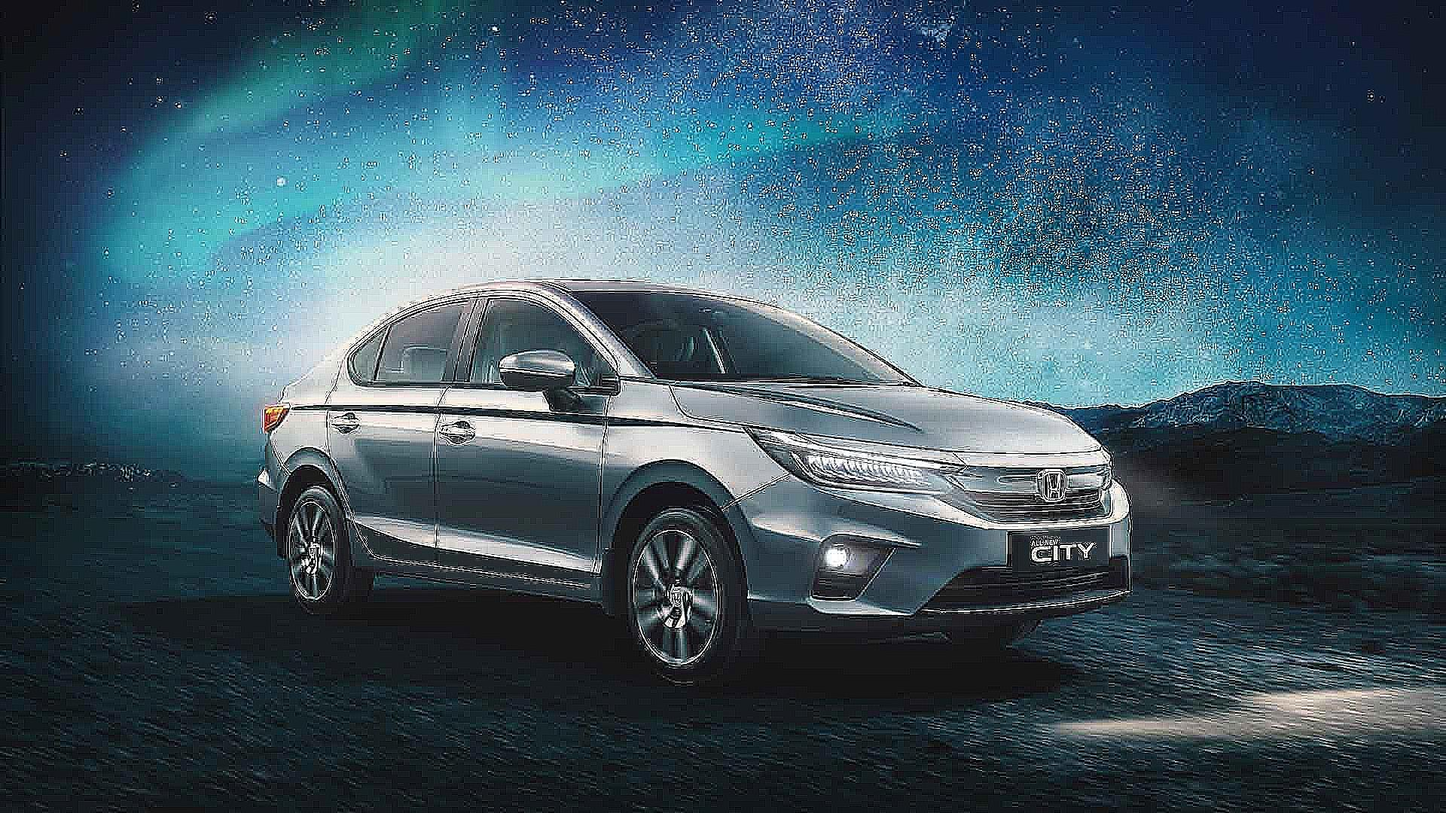Car hood: (667, 375, 1106, 459)
Driver-s door - -F-R-: (438, 284, 598, 580)
Fender - -F-R-: (596, 377, 791, 611)
Fender - -R-R-: (277, 376, 363, 575)
Front bumper: (731, 492, 1148, 643)
Headlight - -R-: (738, 419, 967, 499)
Passenger-s door - -R-R-: (328, 300, 438, 571)
Rear bumper: (250, 448, 290, 563)
Rear light - -R-: (260, 398, 292, 444)
Side bumper - -R-: (345, 525, 608, 614)
Side mirror - -R-: (485, 345, 591, 416)
